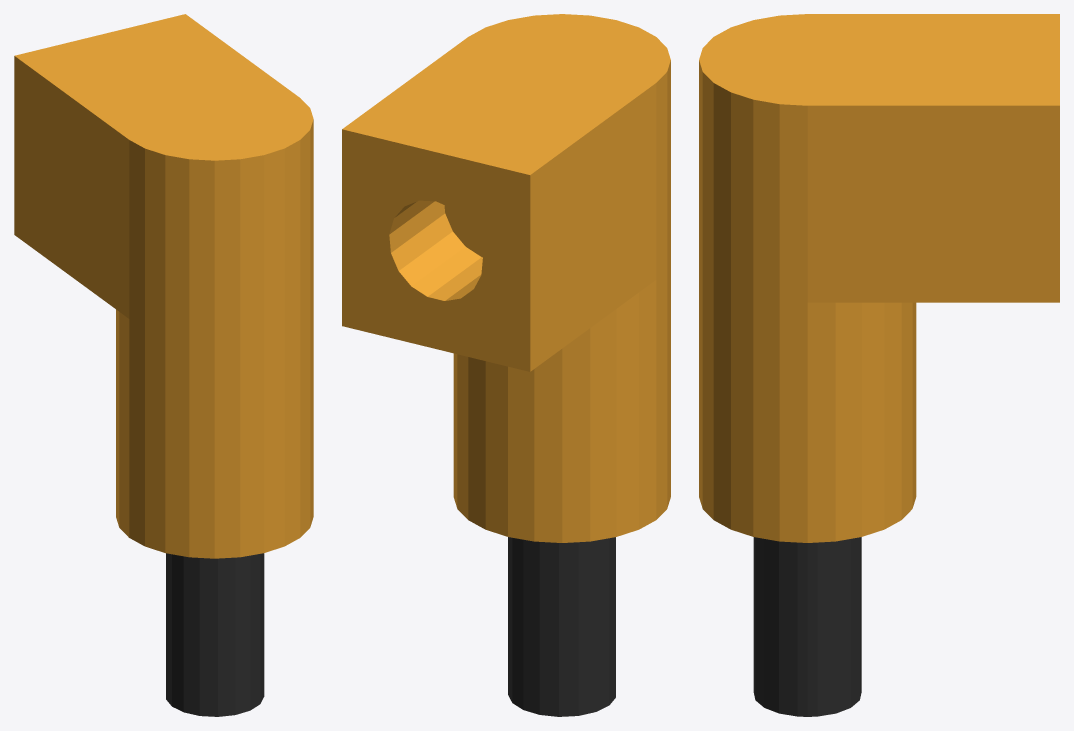
The picture shows the model from 3 angles, left to right: view 1: azimuth 30°, elevation 25°; view 2: azimuth 150°, elevation 25°; view 3: azimuth 270°, elevation 25°; orthographic projection. The views are drawn at different scales.
Visible parts, largest first — view 1: link_4; view 2: link_4; view 3: link_4.
Boxes of the visible parts, x1,y1,x2,y2 form: link_4: (14, 14, 313, 716); link_4: (342, 14, 670, 716); link_4: (699, 14, 1059, 716).
Size of the model in its own units: 0.06 by 0.0997 by 0.1933.
